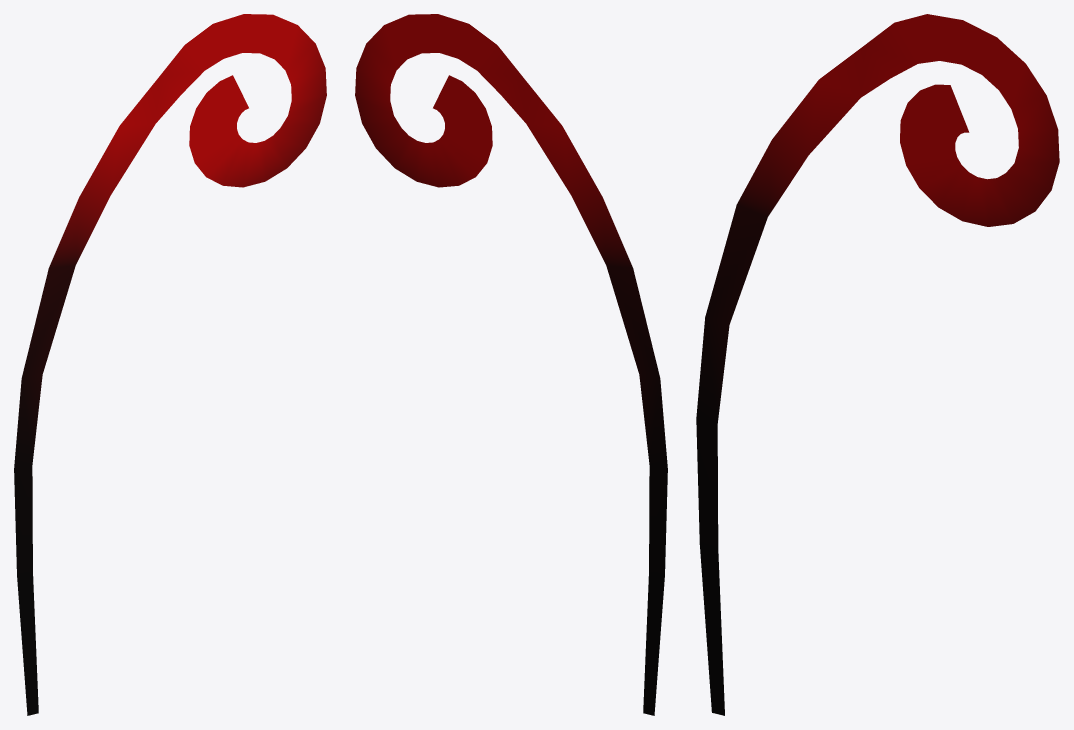
The model's file is SM_Fern_04_LOD0.fbx.
3 views of the same model, side by side, from view 1: azimuth 30°, elevation 25°; view 2: azimuth 150°, elevation 25°; view 3: azimuth 330°, elevation 25° (orthographic). The views are drawn at different scales.
Parts seen in each view (by area): view 1: Fern_04_LOD0; view 2: Fern_04_LOD0; view 3: Fern_04_LOD0.
Boxes of the visible parts, bbox=[...] form: Fern_04_LOD0: bbox=[14, 14, 326, 715]; Fern_04_LOD0: bbox=[355, 14, 667, 715]; Fern_04_LOD0: bbox=[696, 14, 1059, 715].
Size of the model in its own units: 52.16 by 103 by 2.25e-05.
